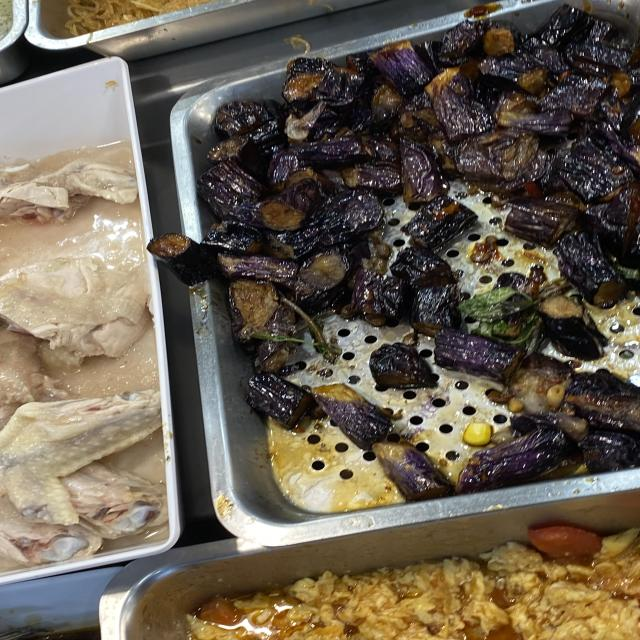eggplant: (260, 98, 615, 194)
